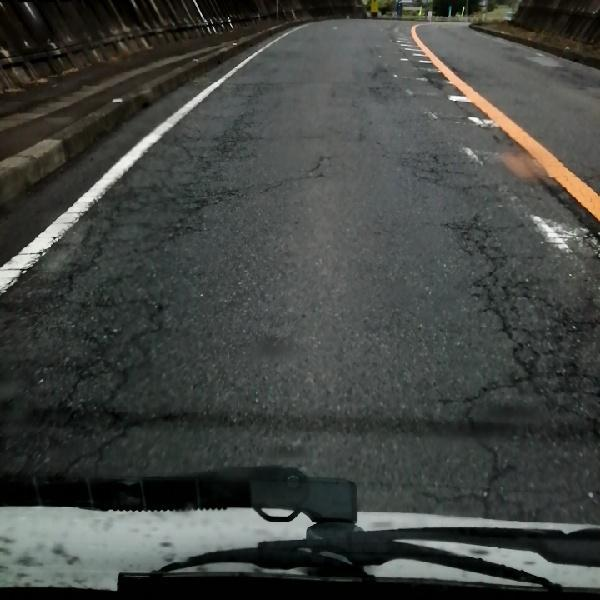D00: (270, 145, 328, 201)
D20: (17, 103, 247, 471), (414, 111, 599, 496)
